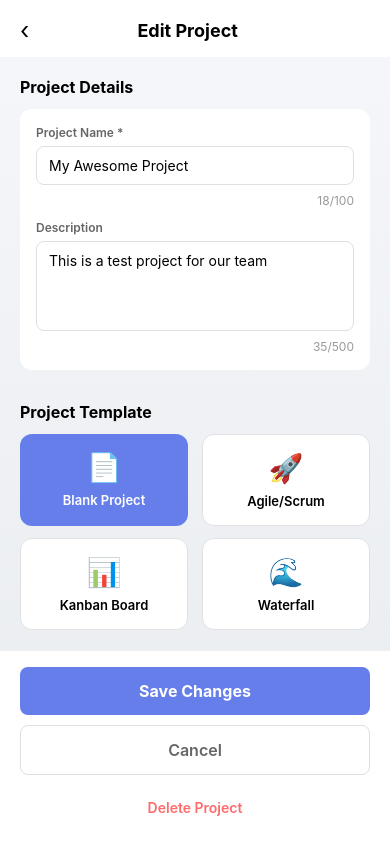
Test: EditProjectScreen › Form Validation › should validate project name minimum length
Replace the text in the field with placeholder "Enter project name" with "AB": (195, 166) [36,146,354,185]
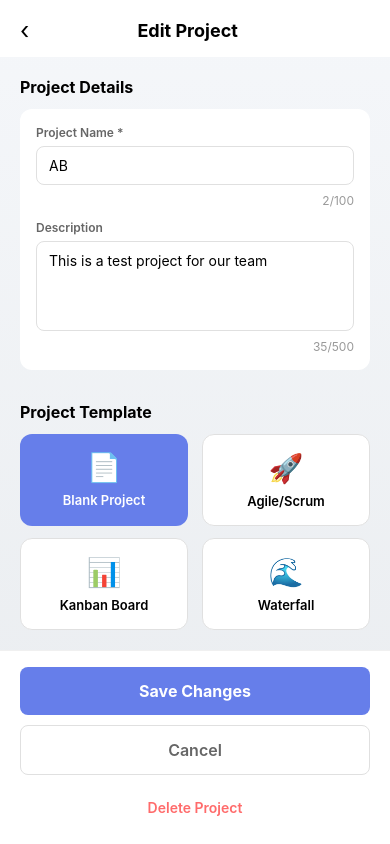
Click the text "Save Changes": (195, 691) [139,681,251,701]
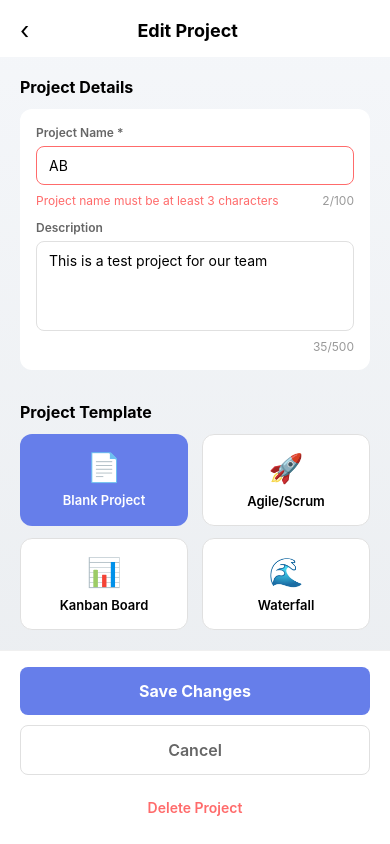
Check: the text "Project name must be at least 3 characters" is shown, box [36,193,279,208]
